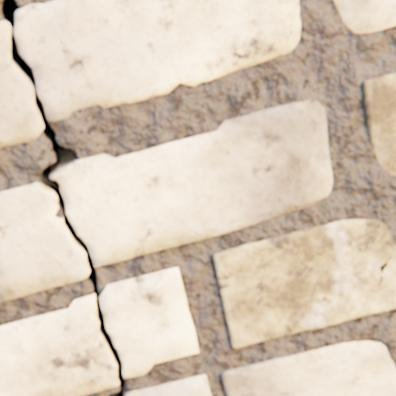brick: (212, 220, 395, 347), (221, 341, 395, 395), (362, 73, 395, 176), (332, 0, 395, 34)
broken_brick: (50, 101, 331, 266), (14, 0, 299, 121), (0, 294, 118, 395), (100, 267, 198, 377), (0, 183, 89, 301), (0, 22, 43, 148), (124, 374, 210, 395)
crack: (0, 0, 126, 395), (377, 256, 389, 285), (34, 0, 56, 5)
